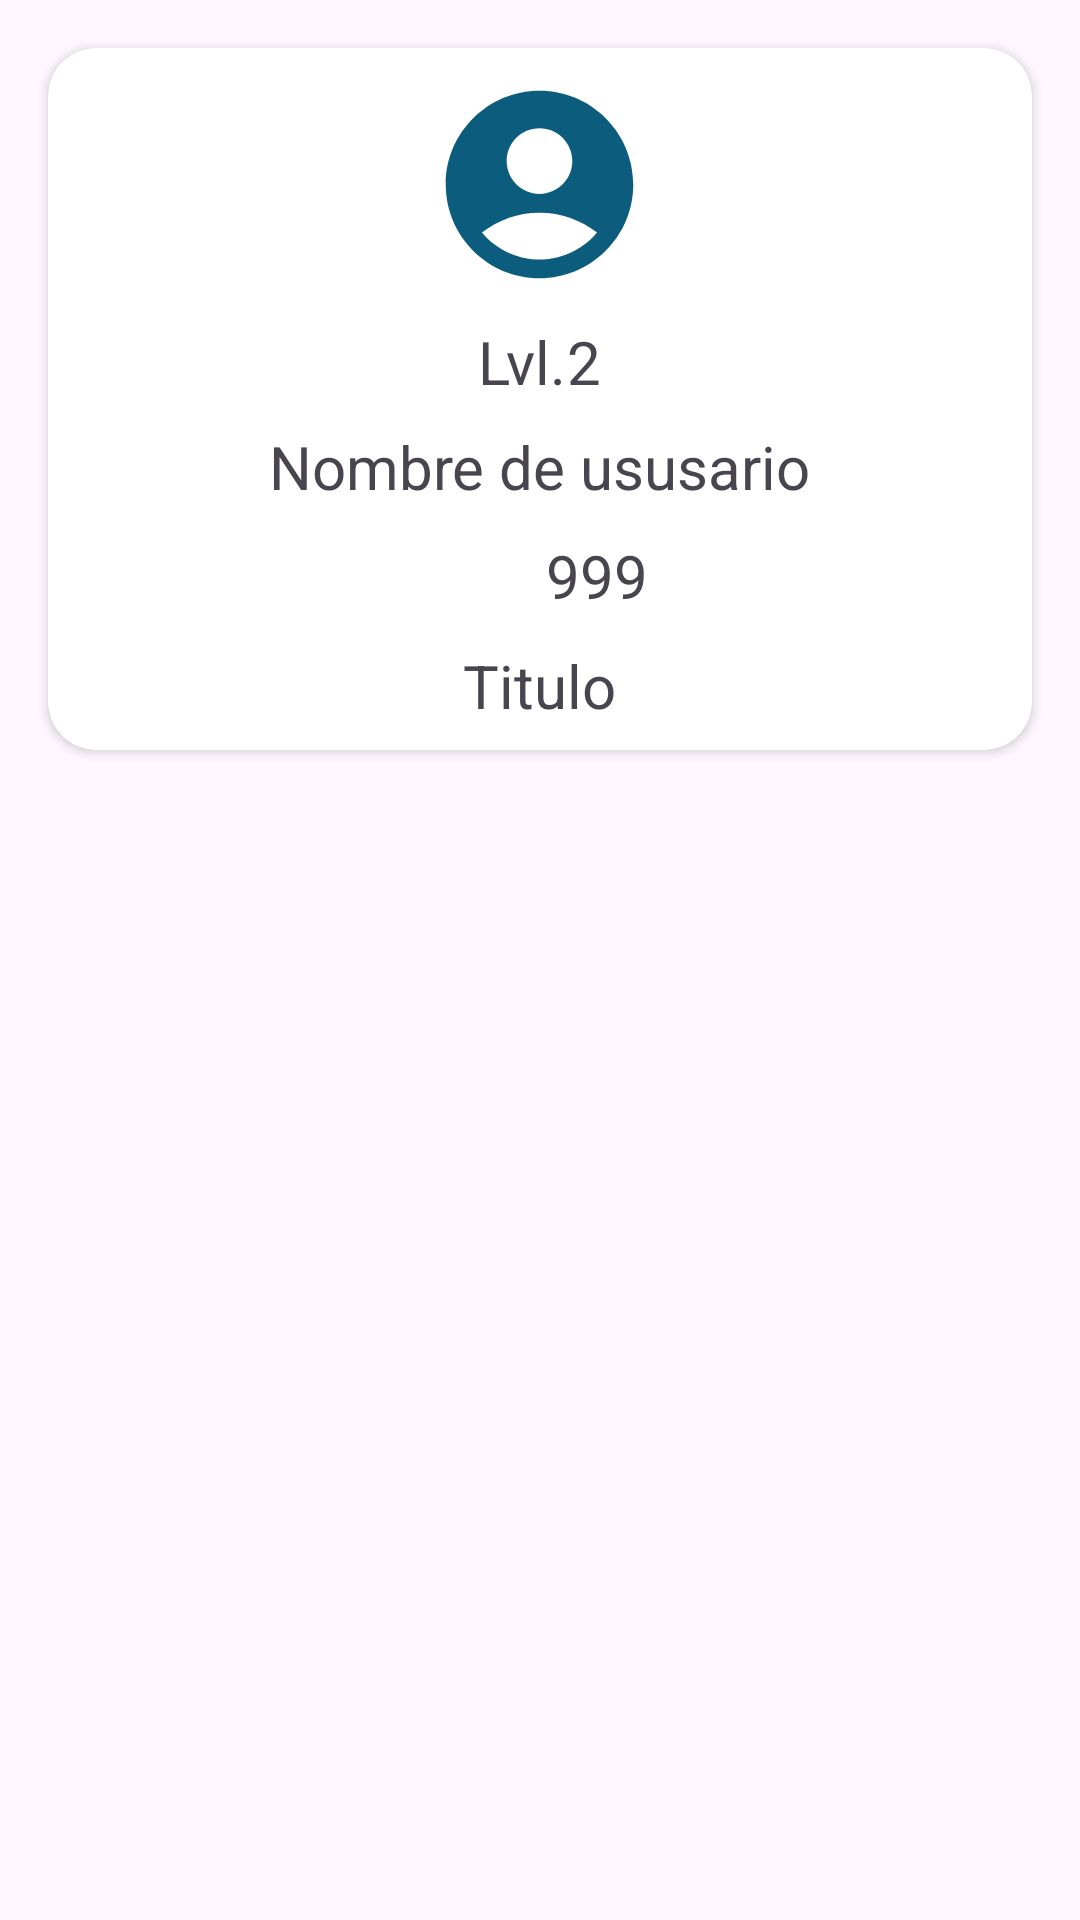

Icon bounding boxes for this 1080*1920 phone screenshot, format (x1, y1, x2, y2):
account: (445, 90, 634, 279)
